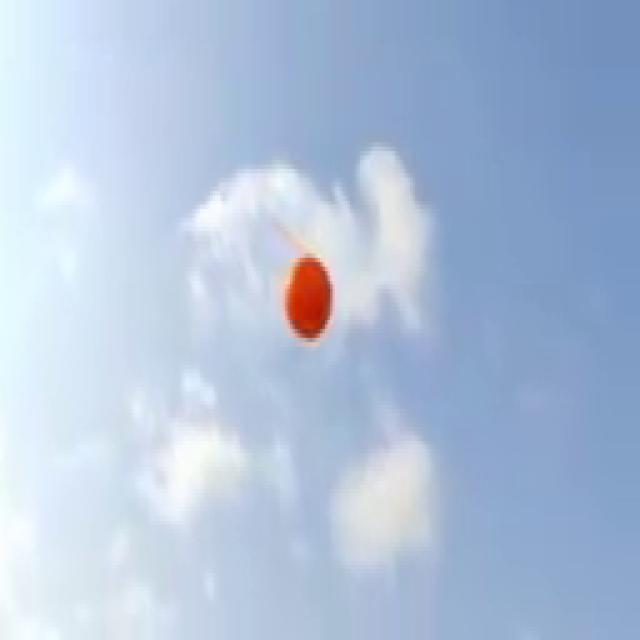red: (283, 252, 333, 341)
